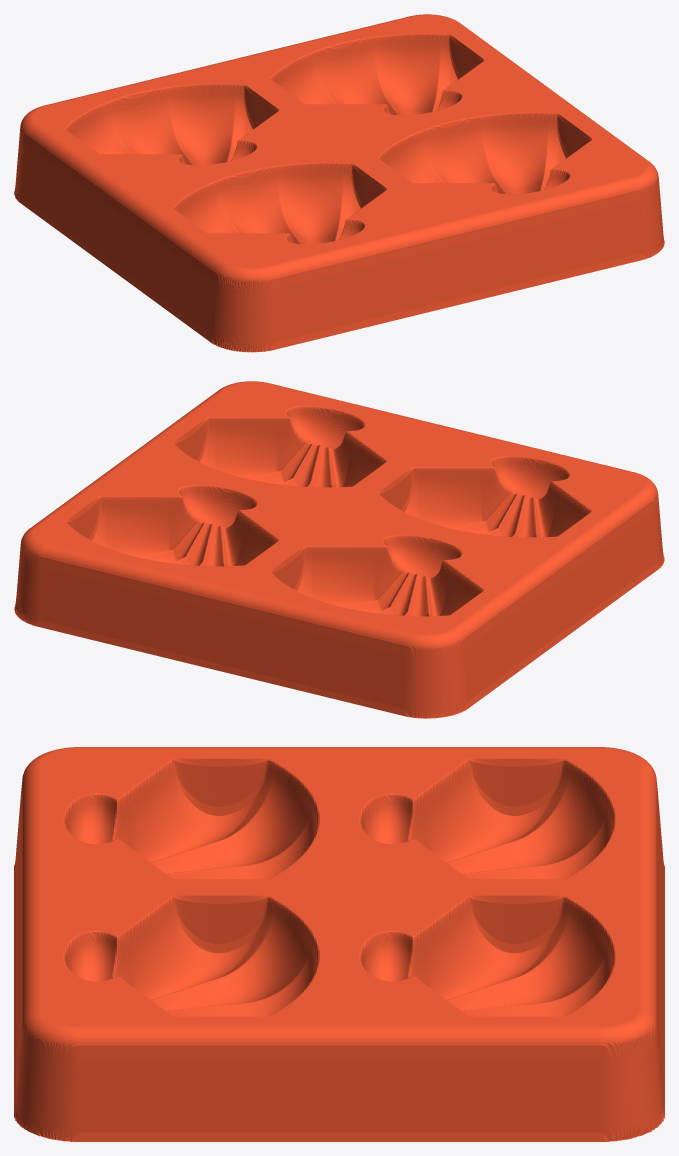
File: mold.glb
The picture shows the model from 3 angles, top to bottom: view 1: azimuth 30°, elevation 25°; view 2: azimuth 150°, elevation 25°; view 3: azimuth 270°, elevation 25°; orthographic projection. The views are drawn at different scales.
Parts seen in each view (by area): view 1: geometry_0; view 2: geometry_0; view 3: geometry_0.
Boxes of the visible parts, bbox=[...] form: geometry_0: bbox=[14, 14, 664, 352]; geometry_0: bbox=[14, 381, 664, 718]; geometry_0: bbox=[14, 747, 664, 1141].
Size of the model in its own units: 0.0978 by 0.0159 by 0.0898.
